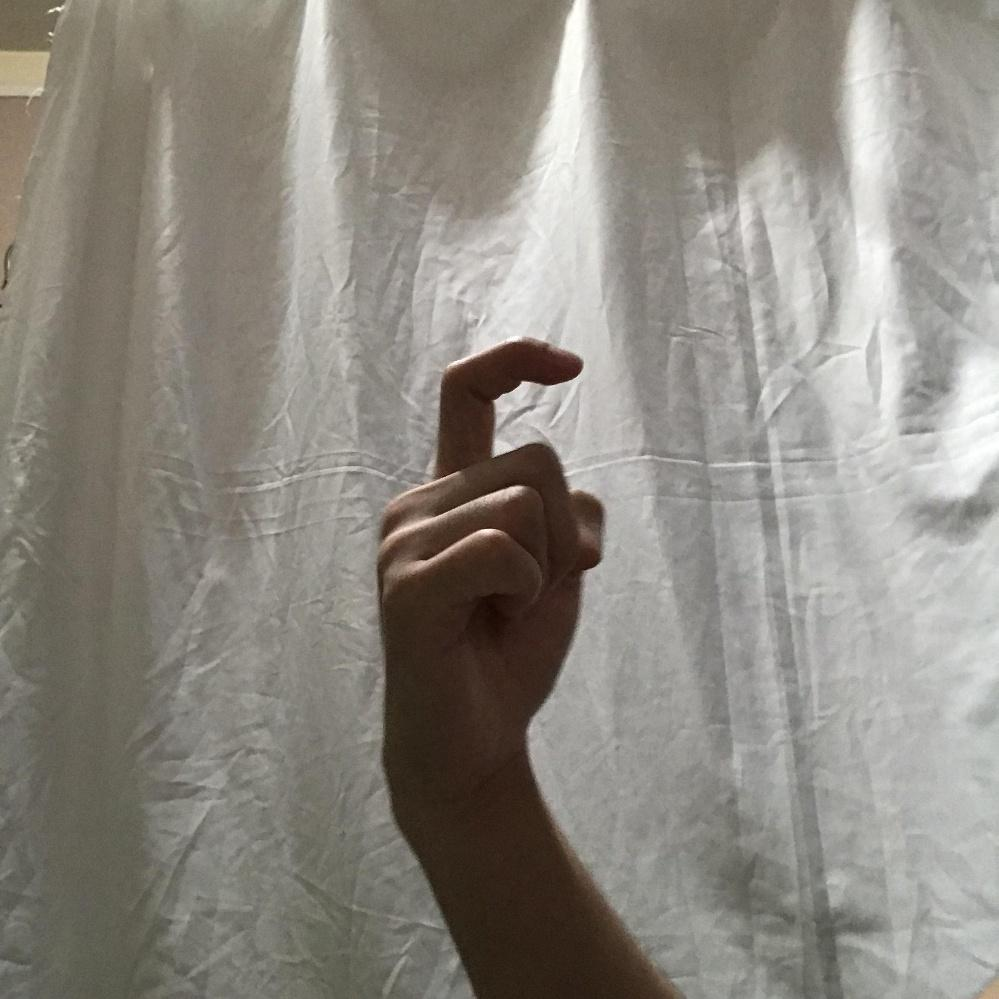x: (381, 333, 607, 790)
